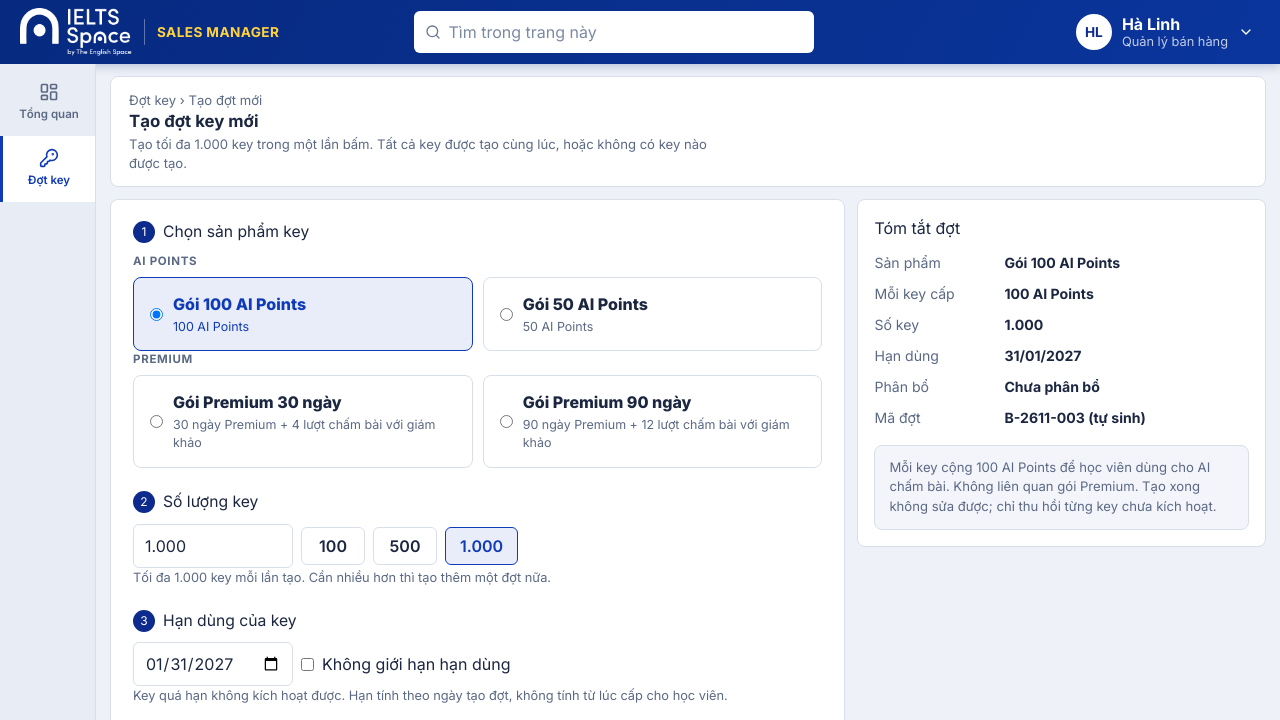
Scenario: sale manager screens › rejects a quantity over 1.000 with the retry banner, then creates the batch after confirmation
Step 1. Replace the text in the field named "Số lượng key" with "1500" → (213, 546), box [133, 524, 293, 568]
(page scrolled)
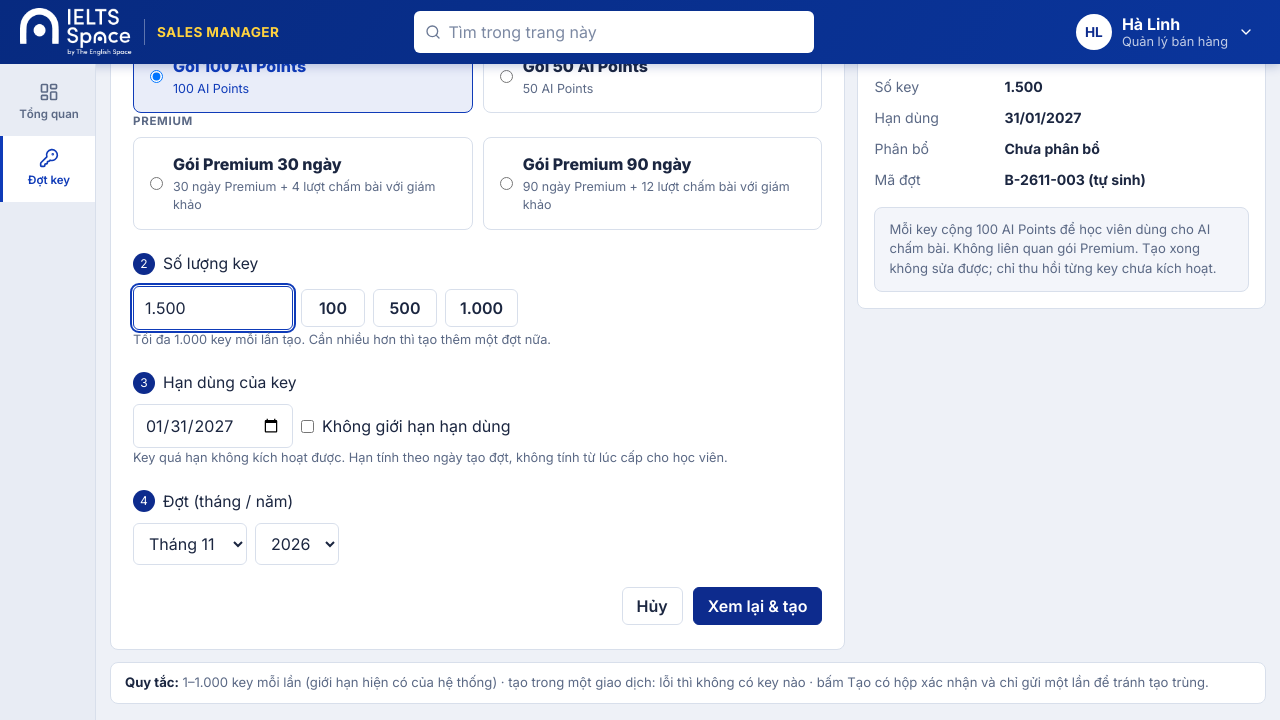
Step 2. Click the button "Xem lại & tạo" → (758, 606), box [693, 587, 822, 625]
(page scrolled)
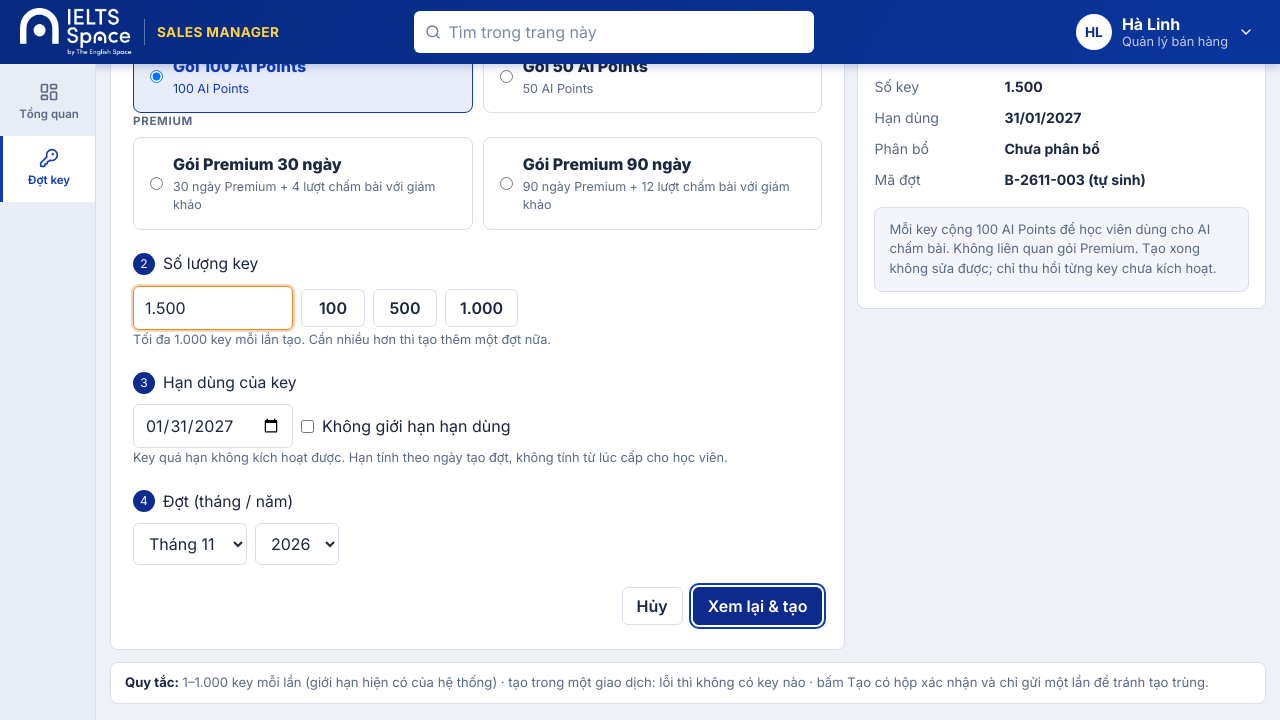
Step 3. Replace the text in the field named "Số lượng key" with "1000" → (213, 308), box [133, 286, 293, 330]
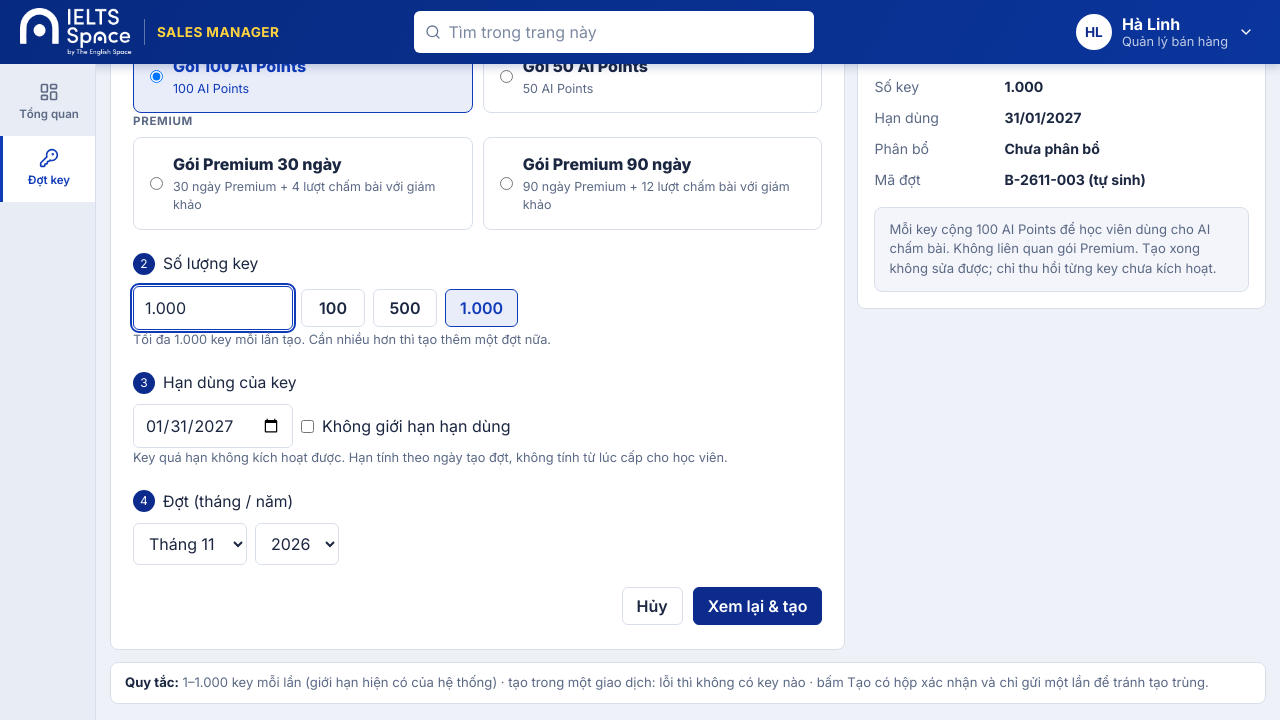
Step 4. Click the button "Xem lại & tạo" → (758, 606), box [693, 587, 822, 625]
(page scrolled)
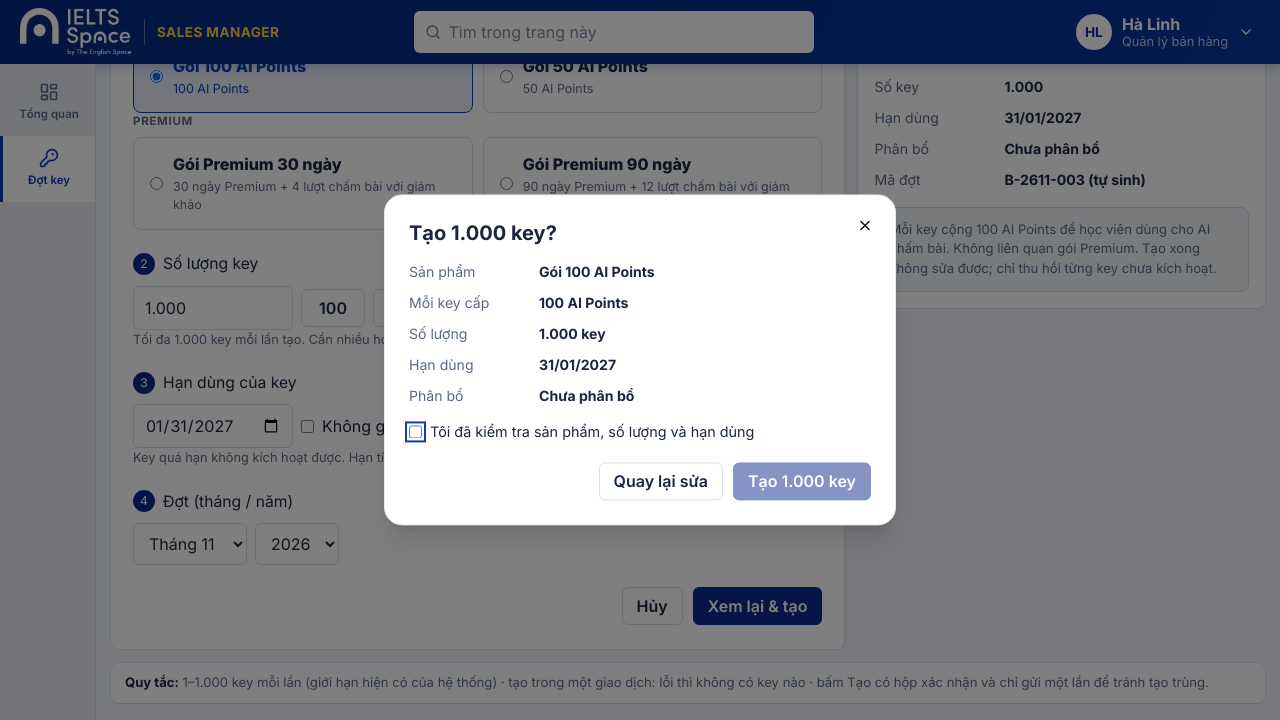
Now the button "Tạo 1.000 key" is disabled, box [733, 463, 871, 501]
Step 5. Click the checkbox labelled "Tôi đã kiểm tra sản phẩm, số lượng và hạn dùng" → (416, 432), box [409, 425, 422, 438]
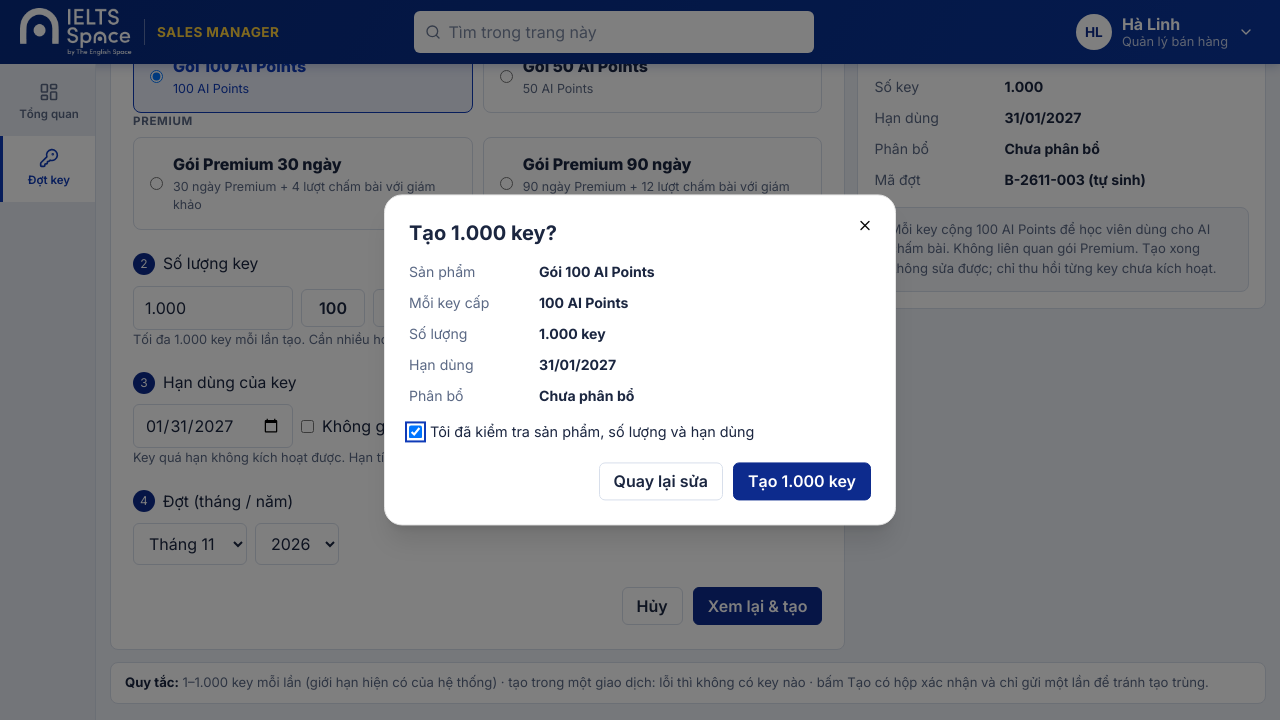
Step 6. Click the button "Tạo 1.000 key" → (802, 482), box [733, 463, 871, 501]
(page scrolled)
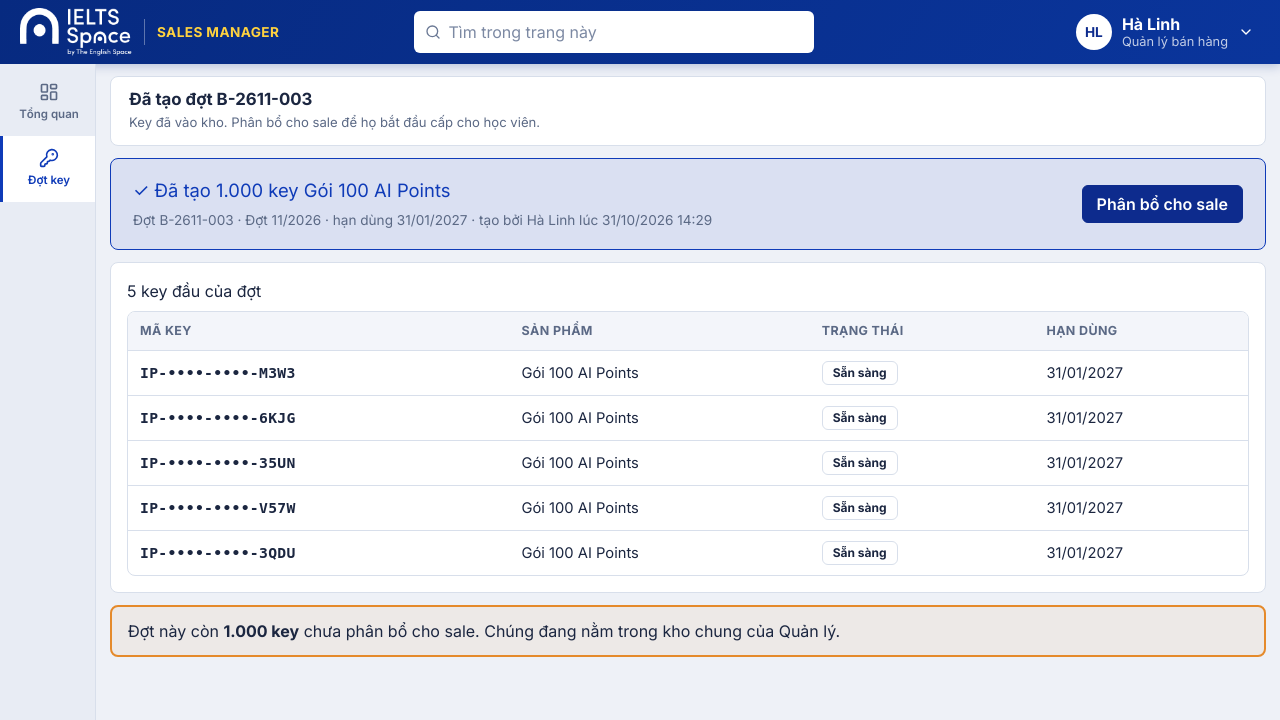
Now the heading "Đã tạo đợt B-2611-003" is shown, box [129, 89, 312, 109]
Now the heading "5 key đầu của đợt" is shown, box [127, 280, 261, 300]
Now the text "Sẵn sàng" is shown 5 times, box [822, 361, 898, 385]; [822, 406, 898, 430]; [822, 451, 898, 475]; [822, 496, 898, 520]; [822, 541, 898, 565]
